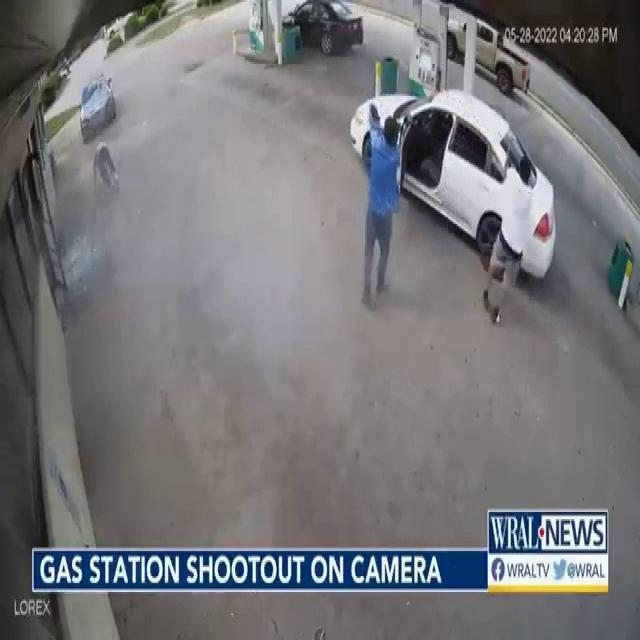penembakan: (357, 103, 400, 324)
